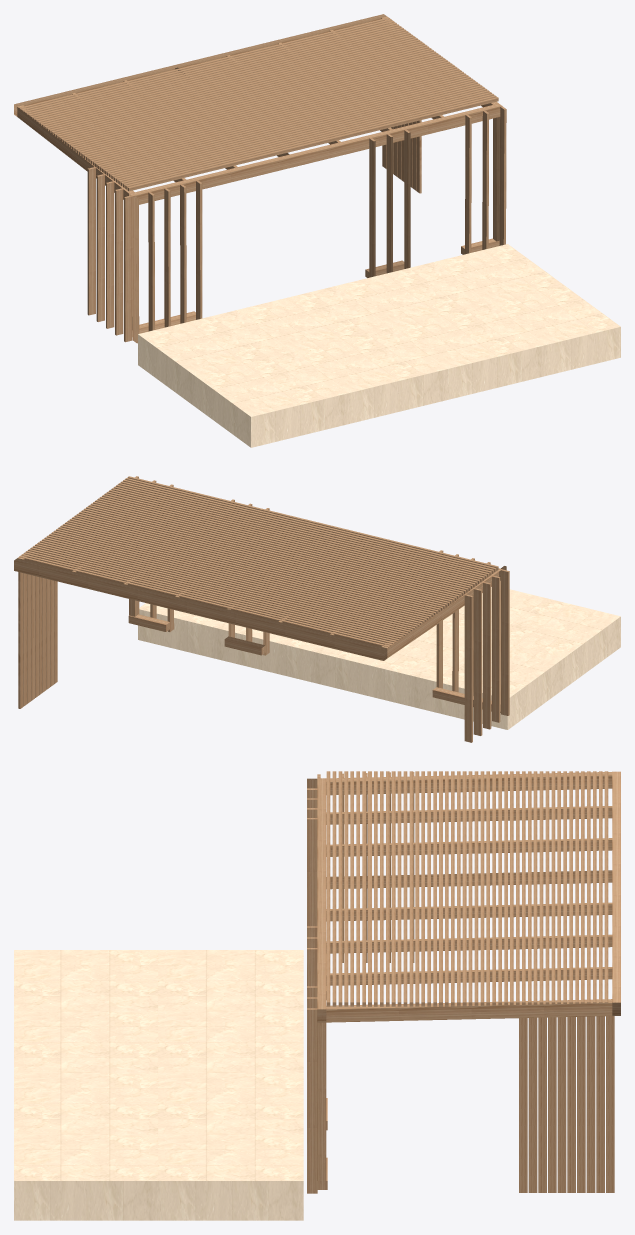
Rendered from pergola_new_marble_floor (1).glb.
3 renders of one model, top to bottom at view 1: azimuth 30°, elevation 25°; view 2: azimuth 150°, elevation 25°; view 3: azimuth 270°, elevation 25°, orthographic. The views are drawn at different scales.
Visible parts, largest first — view 1: Material3, Material4 (×20), dense_beam_0, dense_beam_26, dense_beam_4, dense_beam_6, dense_beam_8, dense_beam_13, dense_beam_17, dense_beam_19, dense_beam_25, dense_beam_3 (+38 smaller); view 2: Material3, Material4 (×12), dense_beam_47, dense_beam_3, dense_beam_4, dense_beam_16, dense_beam_17, dense_beam_7, dense_beam_13, dense_beam_14, dense_beam_1, dense_beam_2 (+48 smaller); view 3: Material3, Material4 (×13), wall_beam_rotated_node_7, wall_beam_rotated_node_4, wall_beam_rotated_node_1, wall_beam_rotated_node_6, wall_beam_rotated_node_8, wall_beam_rotated_node_9, wall_beam_rotated_node_2, wall_beam_rotated_node_3, wall_beam_rotated_node_5, wall_beam_rotated_node_0 (+48 smaller).
Part boxes in pixels (<box>): Material3: <box>138,244,620,447</box>; Material4 (×20): <box>14,14,506,343</box>; dense_beam_0: <box>127,97,498,191</box>; dense_beam_26: <box>67,53,438,147</box>; dense_beam_4: <box>118,90,489,184</box>; dense_beam_6: <box>113,86,484,181</box>; dense_beam_8: <box>109,83,480,177</box>; dense_beam_13: <box>97,75,468,169</box>; dense_beam_17: <box>88,68,459,162</box>; dense_beam_19: <box>83,64,454,159</box>; dense_beam_25: <box>69,54,440,148</box>; dense_beam_3: <box>120,92,491,186</box>; Material3: <box>138,587,620,729</box>; Material4 (×12): <box>14,550,509,742</box>; dense_beam_47: <box>19,555,389,647</box>; dense_beam_3: <box>120,481,491,575</box>; dense_beam_4: <box>118,483,489,577</box>; dense_beam_16: <box>90,503,461,597</box>; dense_beam_17: <box>88,505,459,599</box>; dense_beam_7: <box>111,488,482,582</box>; dense_beam_13: <box>97,498,468,592</box>; dense_beam_14: <box>95,500,466,594</box>; dense_beam_1: <box>125,478,496,572</box>; dense_beam_2: <box>123,479,494,573</box>; Material3: <box>14,950,303,1220</box>; Material4 (×13): <box>307,771,620,1193</box>; wall_beam_rotated_node_7: <box>586,1016,595,1192</box>; wall_beam_rotated_node_4: <box>557,1017,566,1192</box>; wall_beam_rotated_node_1: <box>528,1017,537,1192</box>; wall_beam_rotated_node_6: <box>577,1016,585,1192</box>; wall_beam_rotated_node_8: <box>596,1016,604,1192</box>; wall_beam_rotated_node_9: <box>606,1016,614,1192</box>; wall_beam_rotated_node_2: <box>538,1017,546,1192</box>; wall_beam_rotated_node_3: <box>548,1017,556,1192</box>; wall_beam_rotated_node_5: <box>567,1017,575,1192</box>; wall_beam_rotated_node_0: <box>519,1018,527,1192</box>.
Size of the model in its own units: 301 by 130 by 328.
2 materials, 2 textured.
